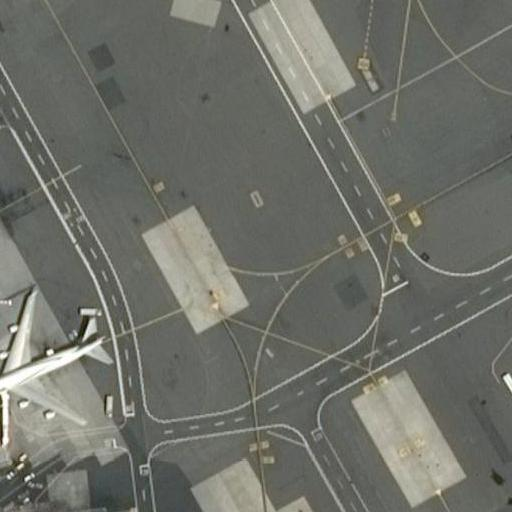Aircraft: (0, 285, 115, 430)
